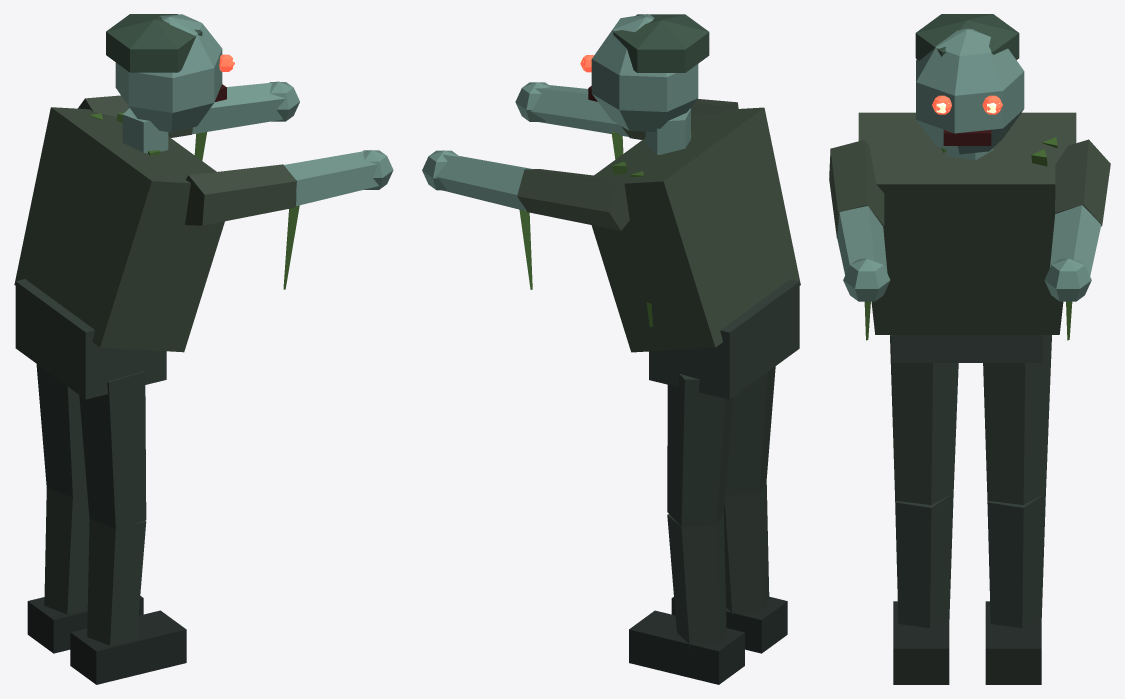
File: drowned.glb
3 views of the same model, side by side, from view 1: azimuth 30°, elevation 25°; view 2: azimuth 150°, elevation 25°; view 3: azimuth 270°, elevation 25° (orthographic). The views are drawn at different scales.
Parts seen in each view (by area): view 1: body, leg_r, leg_l, head, arm_r, arm_l; view 2: body, leg_l, leg_r, head, arm_l, arm_r; view 3: body, leg_l, leg_r, head, arm_l, arm_r.
Boxes of the visible parts, x1,y1,x2,y2 form: body: (14,107,224,399); leg_r: (70,371,186,684); leg_l: (27,364,143,653); head: (106,14,234,132); arm_r: (185,150,393,289); arm_l: (78,81,299,160); body: (591,107,800,399); leg_l: (629,373,744,684); leg_r: (671,366,787,653); head: (580,14,709,131); arm_l: (422,150,629,289); arm_r: (515,82,738,159); body: (858,112,1076,362); leg_l: (983,335,1051,684); leg_r: (890,335,958,684); head: (915,14,1024,154); arm_l: (1044,139,1110,340); arm_r: (829,140,890,340).
Size of the model in its own units: 0.9318 by 1.89 by 0.7253.
